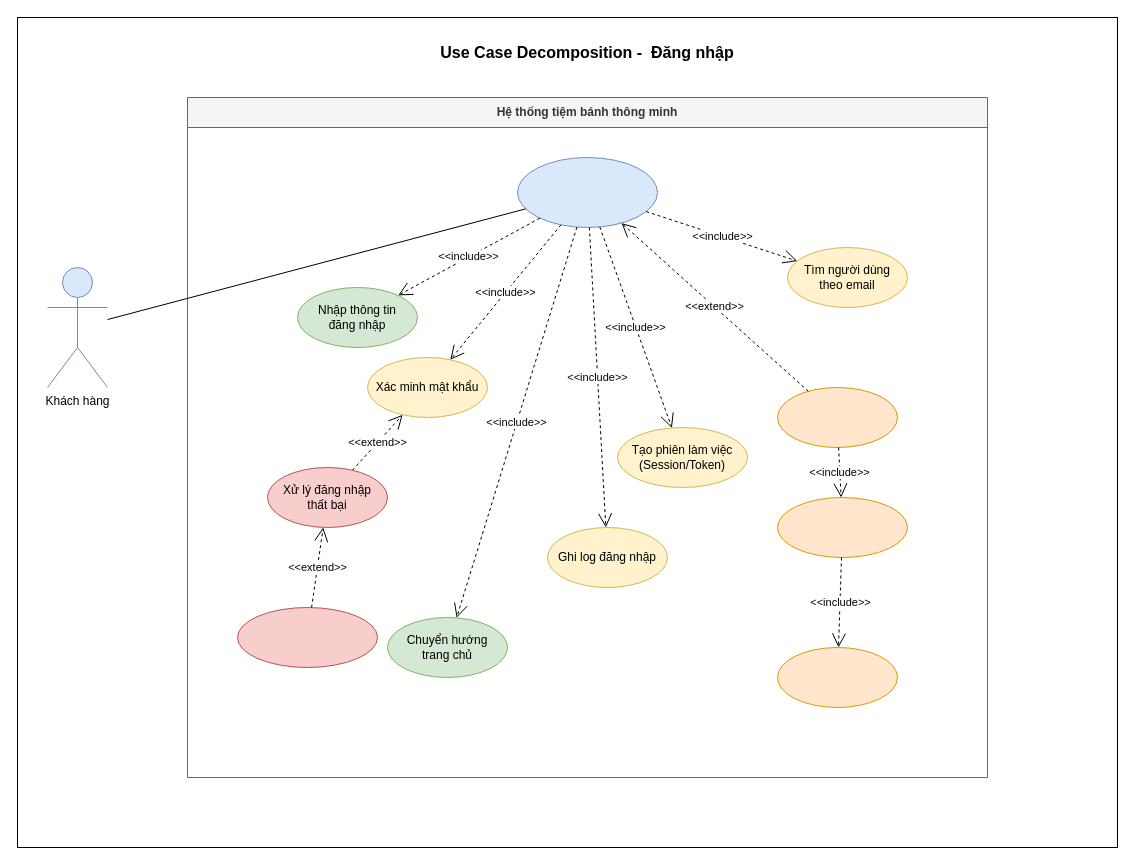
Some shapes in this 1135 by 865 pixel diagram are drawn without their labels. The centre of each missing label's shape, as x and y in pixels:
"Gửi email đặt lại mật khẩu" belongs at (842,527).
"Khóa tài khoản (sau nhiều lần thất bại)" belongs at (307,637).
"Quên mật khẩu" belongs at (837,417).
"Đăng nhập" belongs at (587,192).
"Đặt lại mật khẩu" belongs at (837,677).
